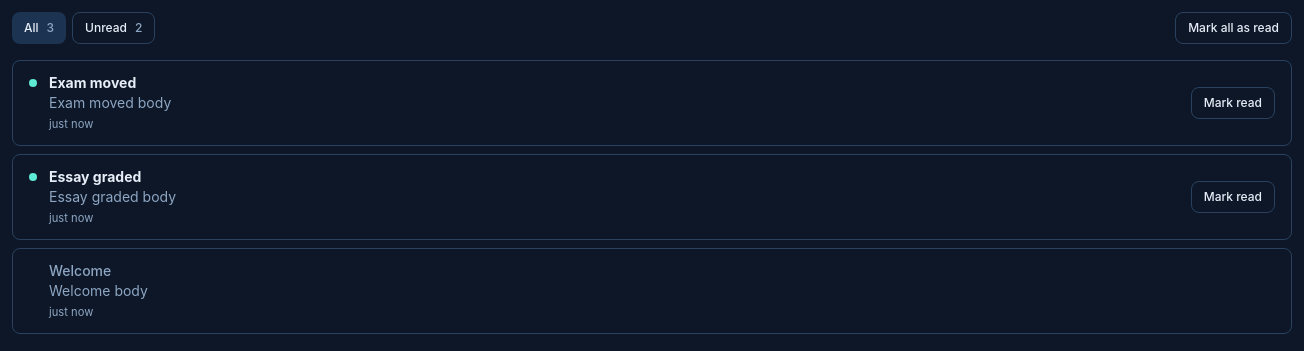
Scenario: NotificationInbox › filters to unread only
The image size is (1304, 351).
Expected: the text "Welcome" is shown, top-left (49, 262), bottom-right (111, 279)
Click the button "Unread 2". click: (114,28)
box: top-left (72, 12), bottom-right (155, 44)
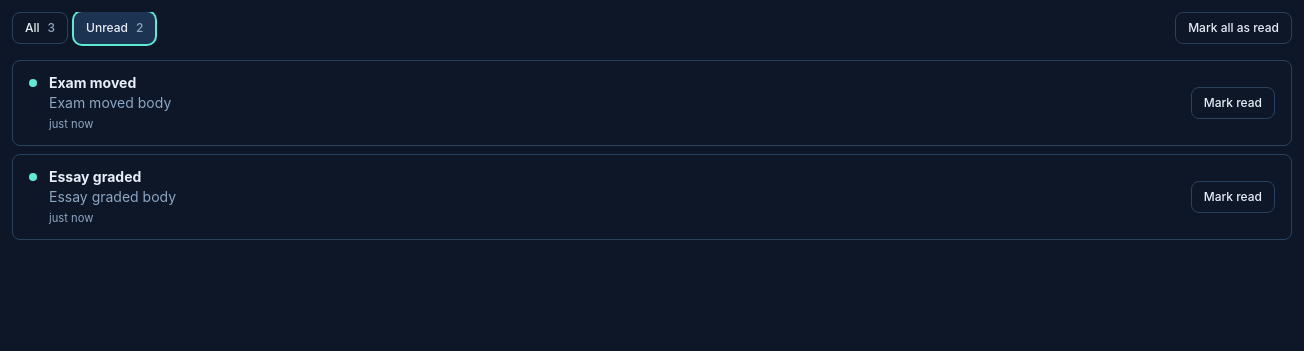
Expected: the text "Exam moved" is shown, top-left (49, 73), bottom-right (171, 93)
Expected: the text "Welcome" is gone
